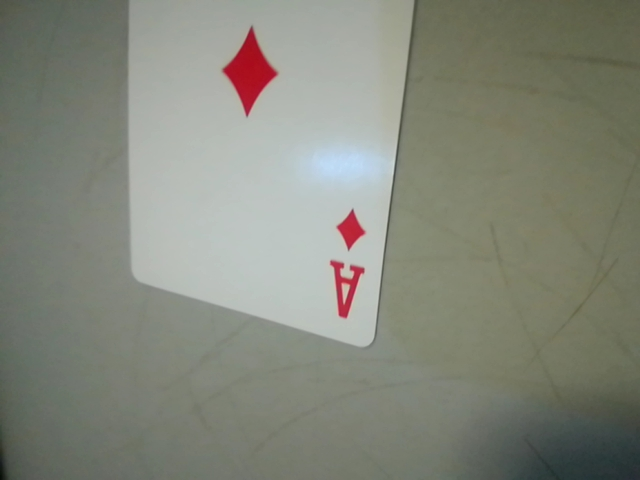fk a: (315, 194, 376, 337)
